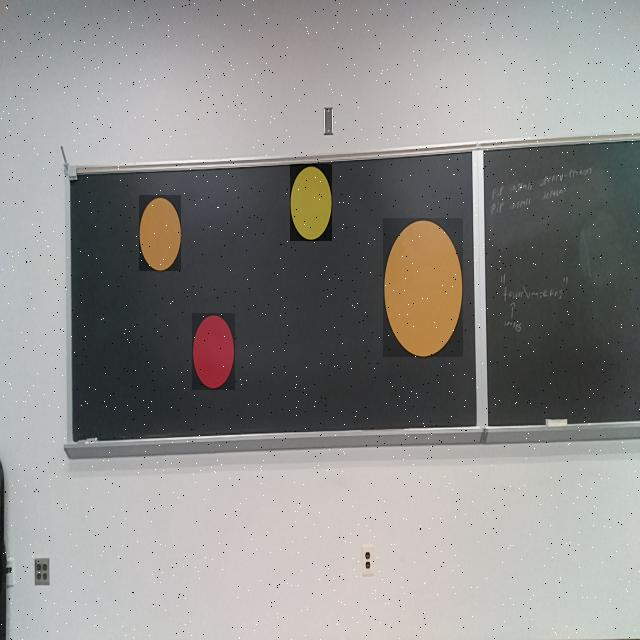Orange: (383, 218, 463, 357), (139, 195, 181, 271)
Red: (192, 313, 235, 390)
Yellow: (290, 164, 332, 241)
